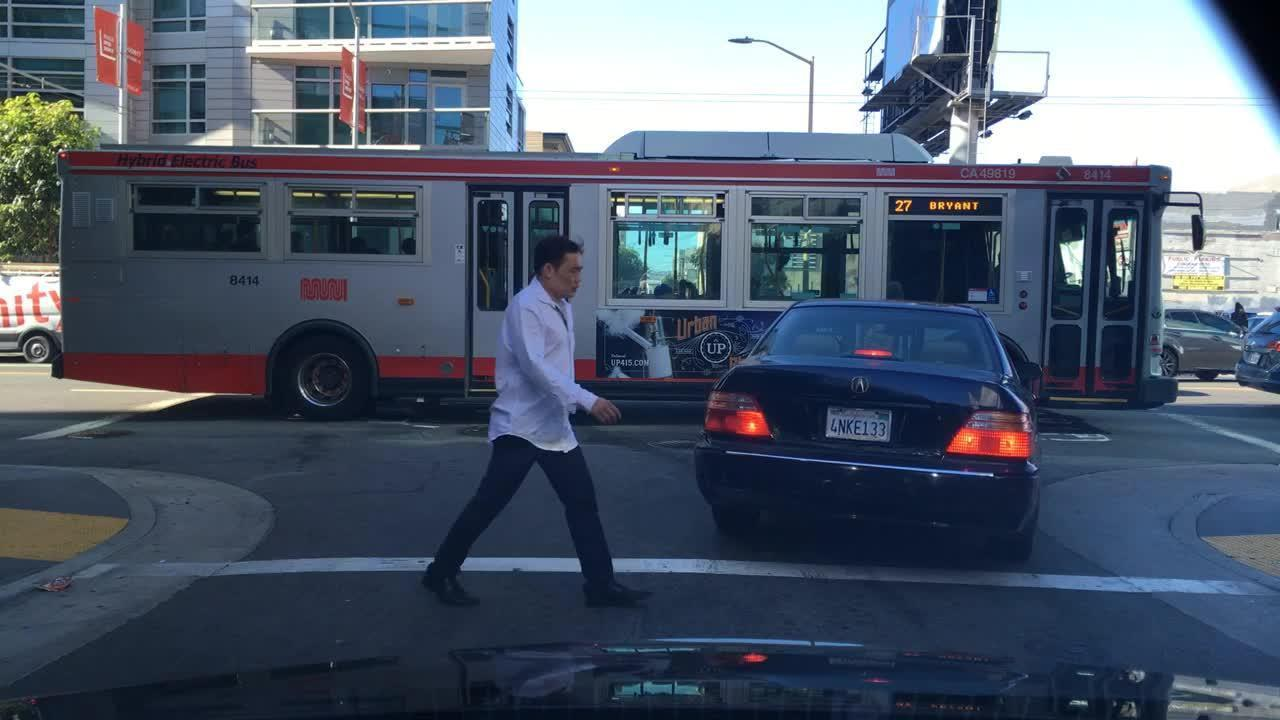acura: (842, 371, 875, 400)
